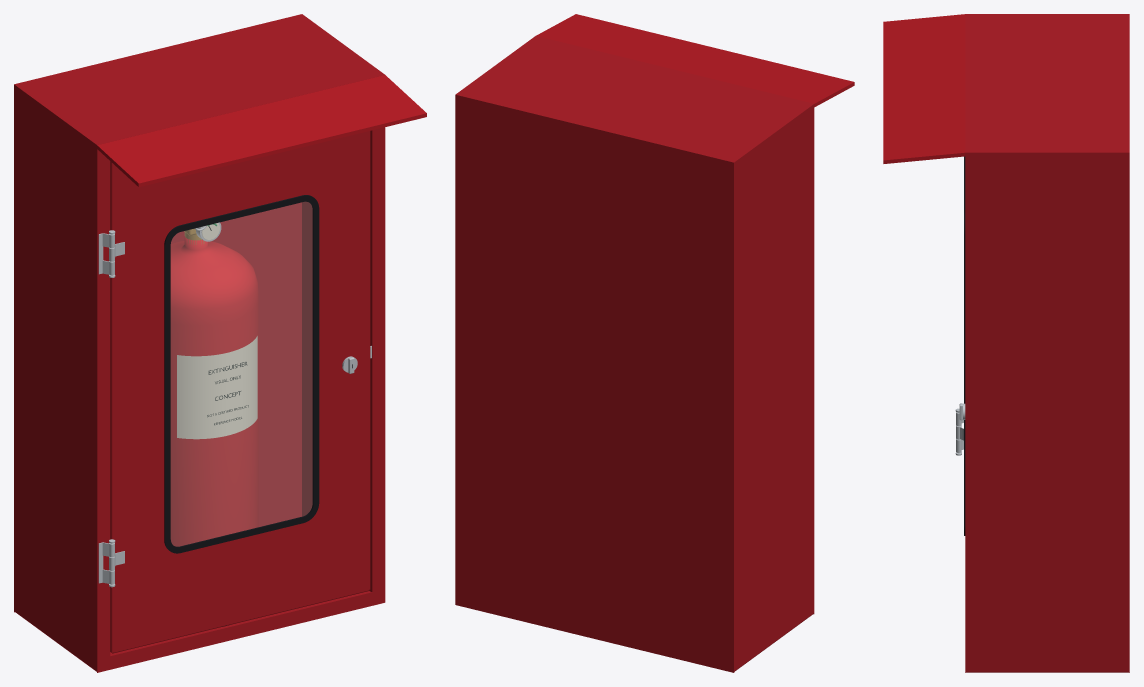
Rendered from cabinet.glb.
The picture shows the model from 3 angles, left to right: view 1: azimuth 30°, elevation 25°; view 2: azimuth 150°, elevation 25°; view 3: azimuth 270°, elevation 25°; orthographic projection. The views are drawn at different scales.
Visible parts, largest first — view 1: PART05_CONTINUOUS_FORMED_DOOR, PART01_U_BODY, GLASS_TARGET_220x440x2, PART02_TOP, Extinguisher_pressure_vessel_ESTIMATED, PART04_FRAME, PART03_REAR, Rain_Canopy_100mm_VISUAL_CONCEPT, Glazing_Front_Black_Bead_VISUAL, Simulated_label; view 2: PART03_REAR, PART01_U_BODY, PART02_TOP, Rain_Canopy_100mm_VISUAL_CONCEPT, PART04_FRAME; view 3: PART01_U_BODY, PART02_TOP, Rain_Canopy_100mm_VISUAL_CONCEPT, Glazing_Front_Black_Bead_VISUAL, PART03_REAR, PART04_FRAME.
Boxes of the visible parts, box(x1,y1,x2,y2) form: PART05_CONTINUOUS_FORMED_DOOR: box(110, 131, 370, 653); PART01_U_BODY: box(14, 85, 371, 671); GLASS_TARGET_220x440x2: box(171, 202, 312, 546); PART02_TOP: box(14, 14, 384, 145); Extinguisher_pressure_vessel_ESTIMATED: box(170, 236, 258, 546); PART04_FRAME: box(97, 74, 385, 672); PART03_REAR: box(14, 14, 301, 612); Rain_Canopy_100mm_VISUAL_CONCEPT: box(97, 75, 426, 187); Glazing_Front_Black_Bead_VISUAL: box(164, 195, 319, 553); Simulated_label: box(177, 336, 257, 439); PART03_REAR: box(455, 94, 734, 672); PART01_U_BODY: box(734, 105, 813, 671); PART02_TOP: box(456, 36, 813, 162); Rain_Canopy_100mm_VISUAL_CONCEPT: box(536, 14, 854, 107); PART04_FRAME: box(536, 36, 814, 614); PART01_U_BODY: box(966, 153, 1128, 672); PART02_TOP: box(966, 14, 1128, 153); Rain_Canopy_100mm_VISUAL_CONCEPT: box(883, 14, 965, 163); Glazing_Front_Black_Bead_VISUAL: box(964, 156, 965, 535); PART03_REAR: box(1129, 14, 1129, 672); PART04_FRAME: box(965, 14, 965, 672).
Size of the model in its own units: 0.4 by 0.7 by 0.3.
